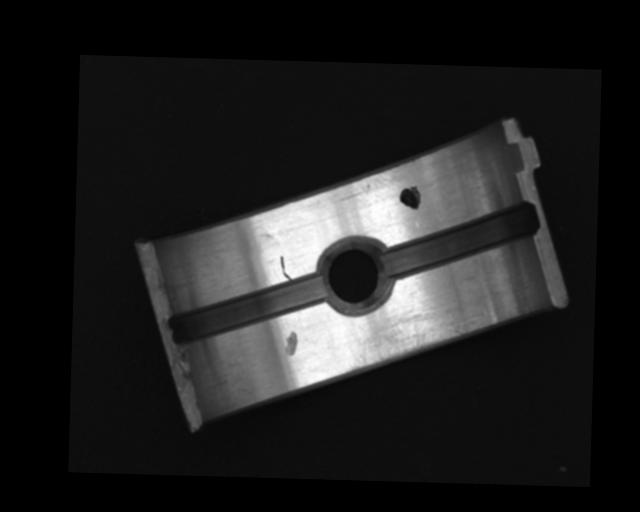blot: (398, 183, 422, 211)
bruise: (284, 329, 299, 358)
gap: (378, 199, 540, 280), (168, 271, 326, 349)
hole: (314, 238, 394, 316)
nick: (279, 255, 293, 281)
scratch: (343, 312, 478, 378)
